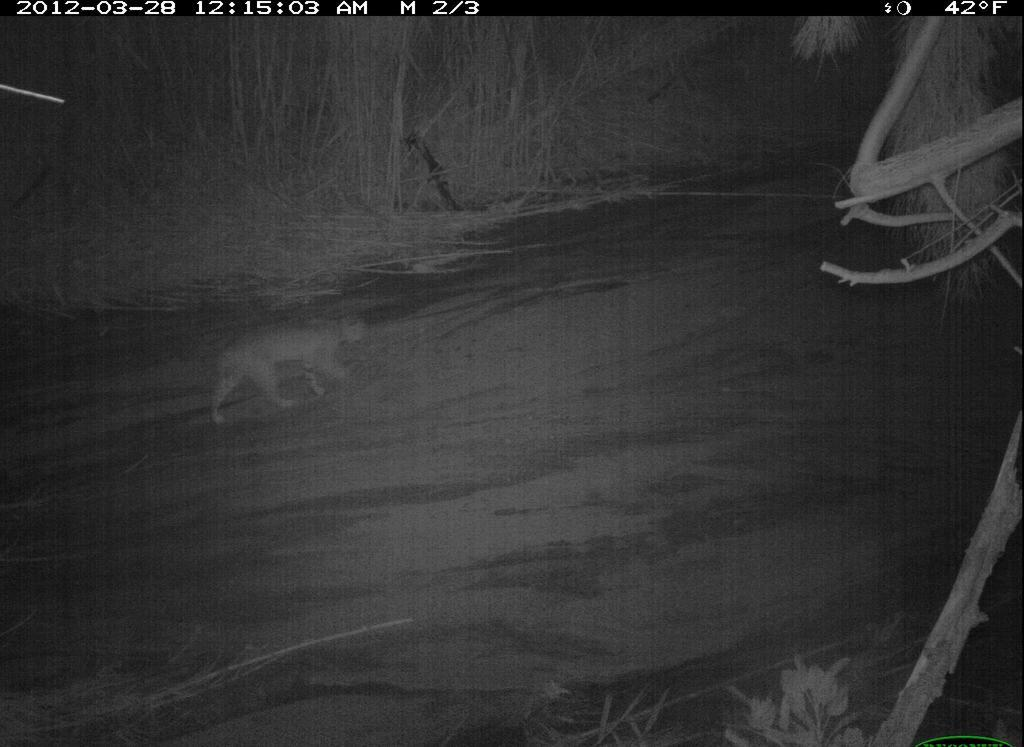bobcat: (196, 309, 379, 438)
